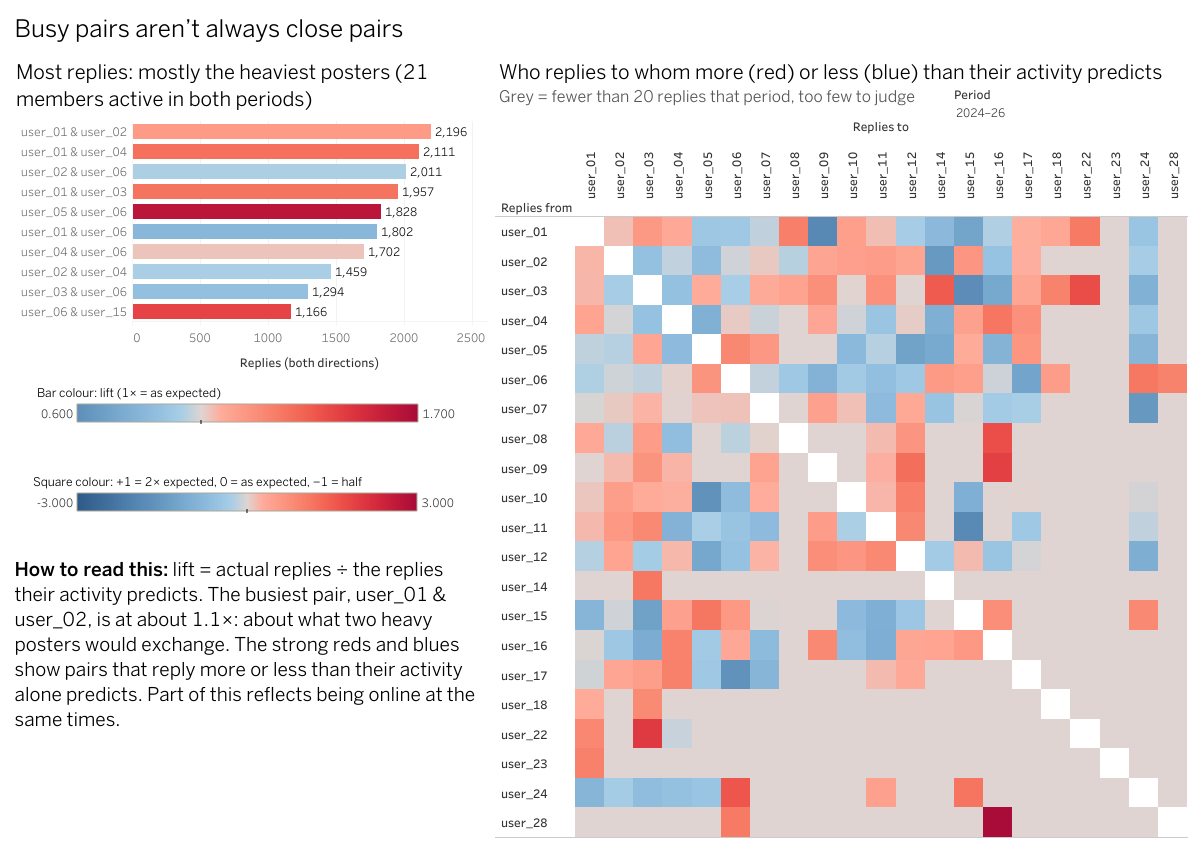

The page's visual inventory and layout, read from the dashboard file:
{"tool":"tableau","page":{"name":"Who talks to whom","canvas":[1200,850],"ordinal":1},"visuals":[{"type":"title","box":[8,8,1184,39]},{"type":"worksheet","title":"Busiest pairs","mark":"Automatic","rows":["pair"],"cols":["replies"],"box":[8,47,483.3,397.5]},{"type":"worksheet","title":"Lift","mark":"Square","rows":["source"],"cols":["target"],"box":[491.4,47,700.6,795]},{"type":"parameter","param":"[Parameters].[Parameter 1187253073444864]","box":[954,84,219,52]},{"type":"legend","title":"Busiest pairs","param":"[federated.06tcc5i0ydehfa13fbb9m0v45zhs].[sum:lift:qk]","box":[37,380,423,76]},{"type":"text","box":[8,444.5,483.3,397.5]},{"type":"legend","title":"Lift","param":"[federated.00cfvp208f82gz1345yzv048m4dg].[sum:Calculation_1187253384450051:qk]","box":[33,469,426,76]}]}

Visuals, with their boxes in screenshot pixels (x1, y1, x2, y2), scaled from the page's 1200x850 canvas onto the 1199x849 screenshot:
title: (8, 8, 1191, 47)
"Busiest pairs" worksheet: (8, 47, 491, 444)
"Lift" worksheet (Square marks): (491, 47, 1191, 841)
parameter: (953, 84, 1172, 136)
"Busiest pairs" legend: (37, 380, 460, 455)
text: (8, 444, 491, 841)
"Lift" legend: (33, 468, 459, 544)
